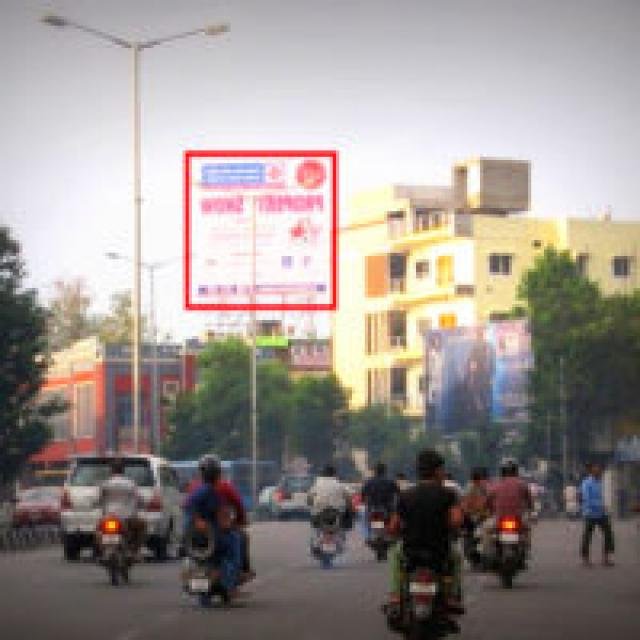Werbetafel frei: (185, 152, 335, 309)
